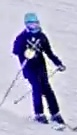skier: (0, 13, 77, 131)
